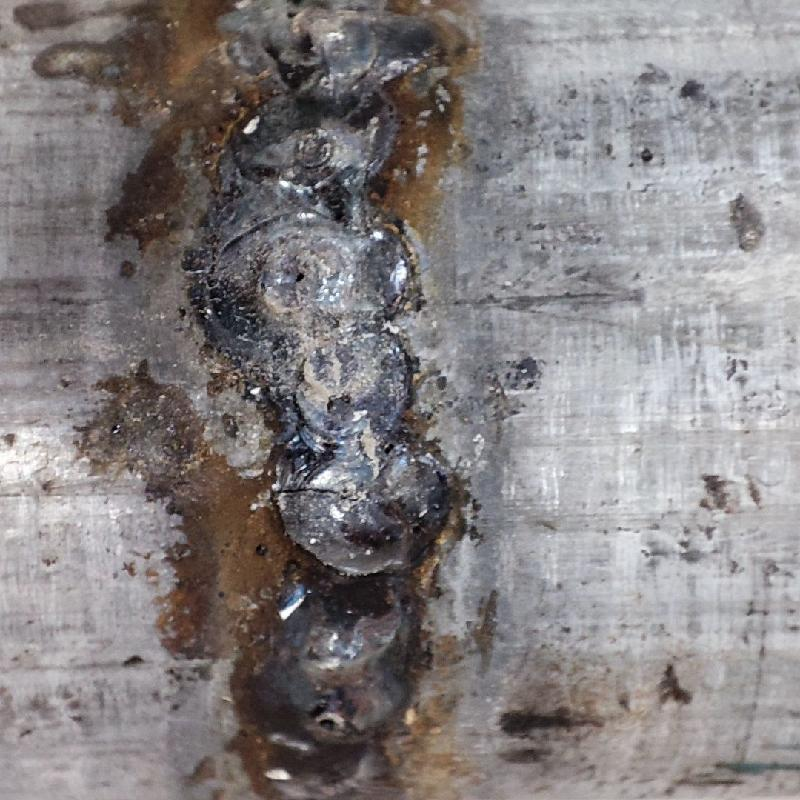Not_fully_soldered: (215, 2, 451, 560)
Surface_pores: (309, 376, 370, 428), (268, 246, 326, 298), (273, 18, 335, 64)
wrong_size: (223, 566, 432, 744)
